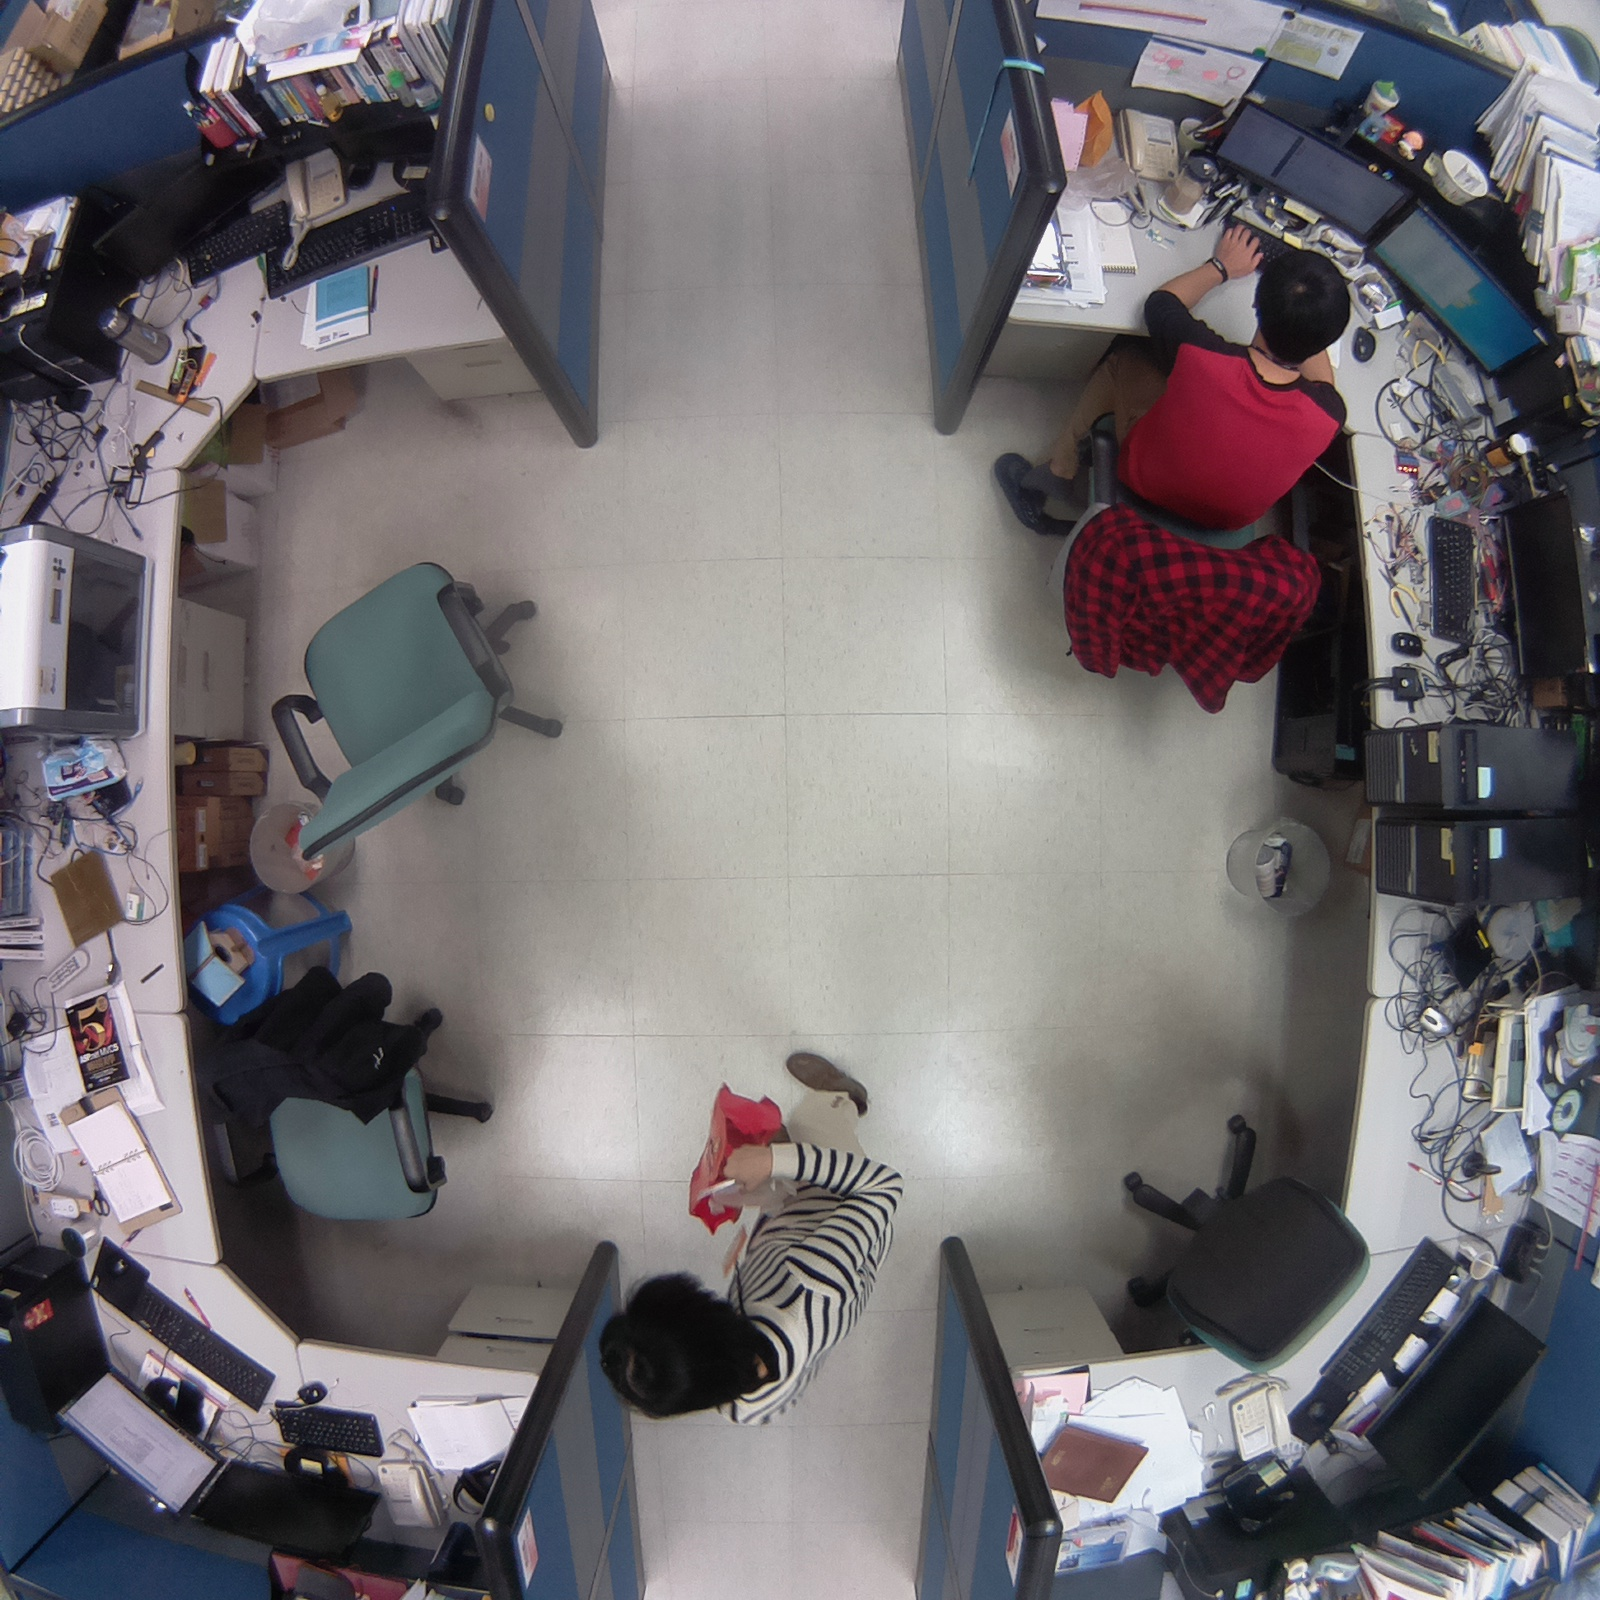chair: (245, 529, 586, 899), (219, 947, 517, 1245), (1088, 1083, 1381, 1386)
head: (593, 1259, 770, 1431), (1246, 244, 1357, 368)
sitting: (978, 237, 1370, 729)
standing: (590, 1037, 918, 1437)
